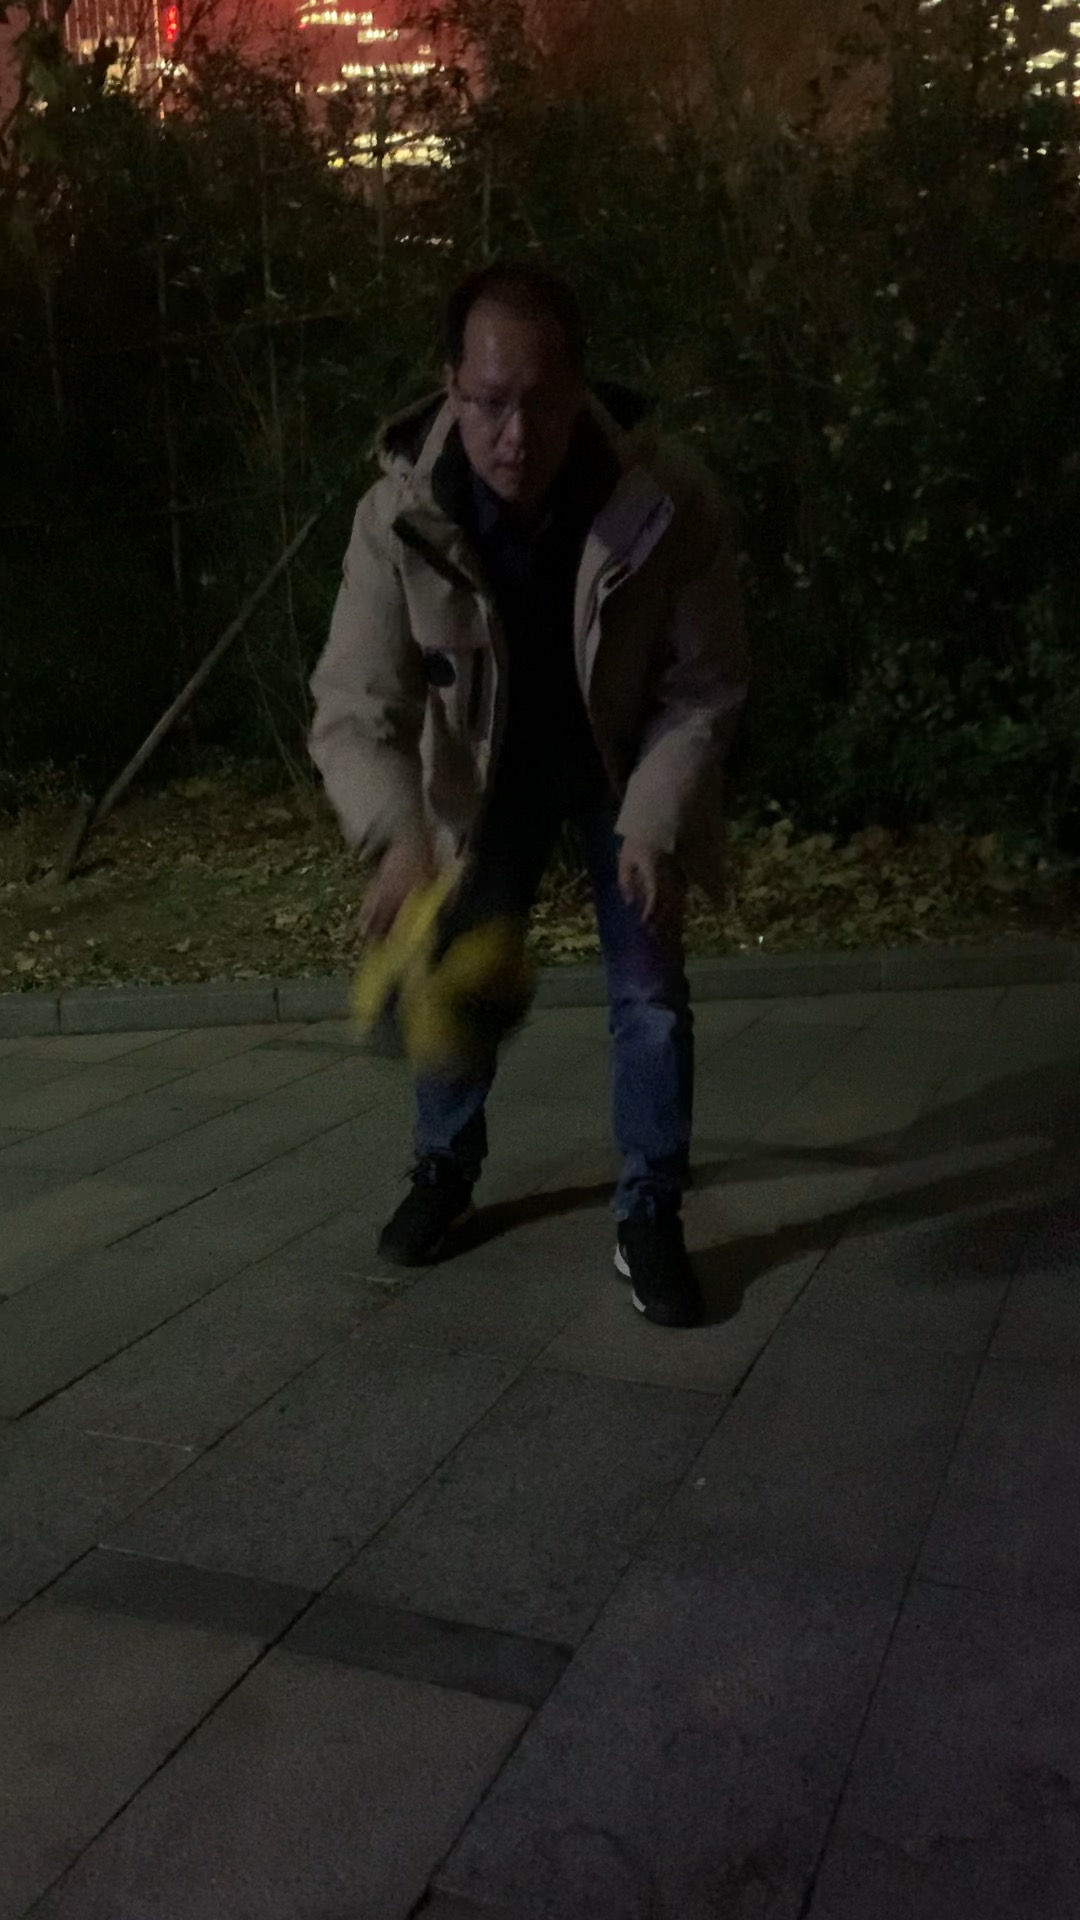ball: (357, 865, 541, 1058)
